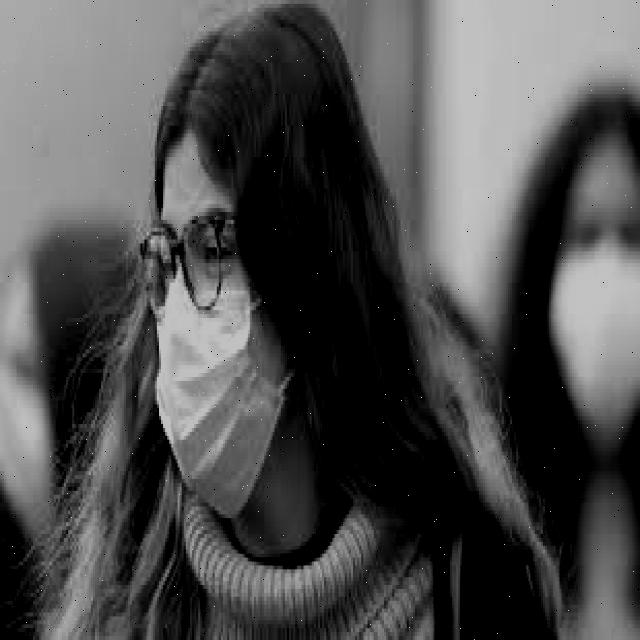fake: (137, 269, 294, 518)
real: (151, 130, 298, 518)
